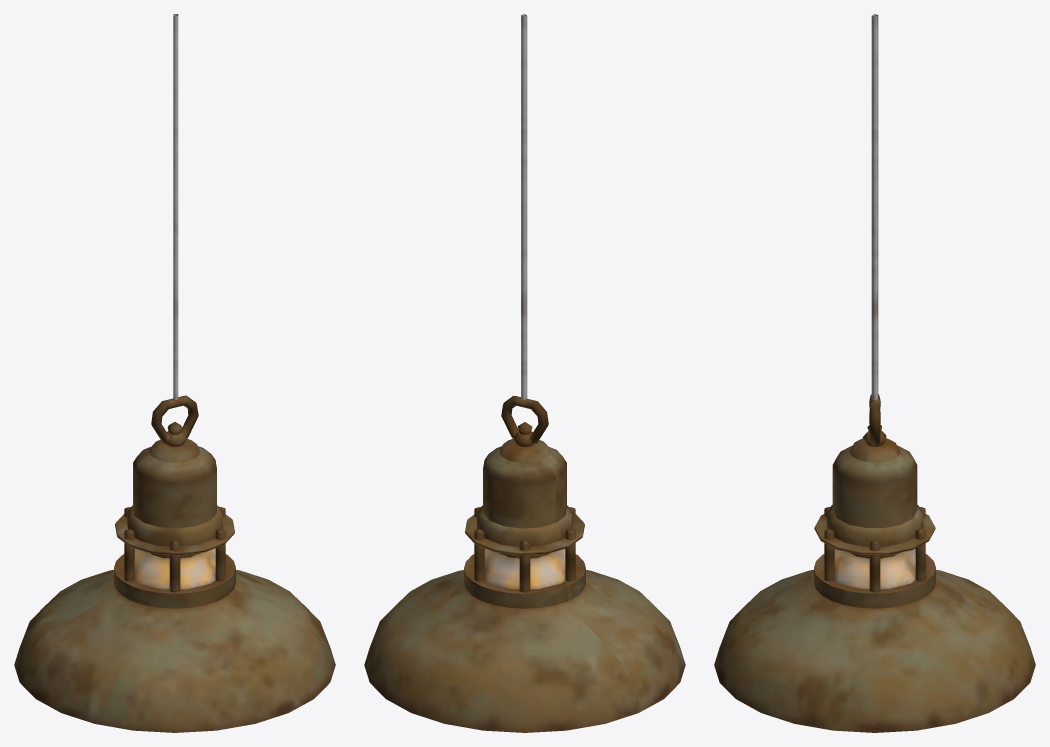
Rendered from ceiling_lamp.gltf.
3 views of the same model, side by side, from view 1: azimuth 30°, elevation 25°; view 2: azimuth 150°, elevation 25°; view 3: azimuth 270°, elevation 25° (orthographic).
Visible parts, largest first — view 1: Plane.011; view 2: Plane.011; view 3: Plane.011.
Part boxes in pixels (x1,y1,x2,y2): Plane.011: [14, 14, 335, 732]; Plane.011: [364, 14, 685, 732]; Plane.011: [714, 14, 1035, 732].
Size of the model in its own units: 0.4619 by 1.08 by 0.4619.
1 material, 1 textured.
